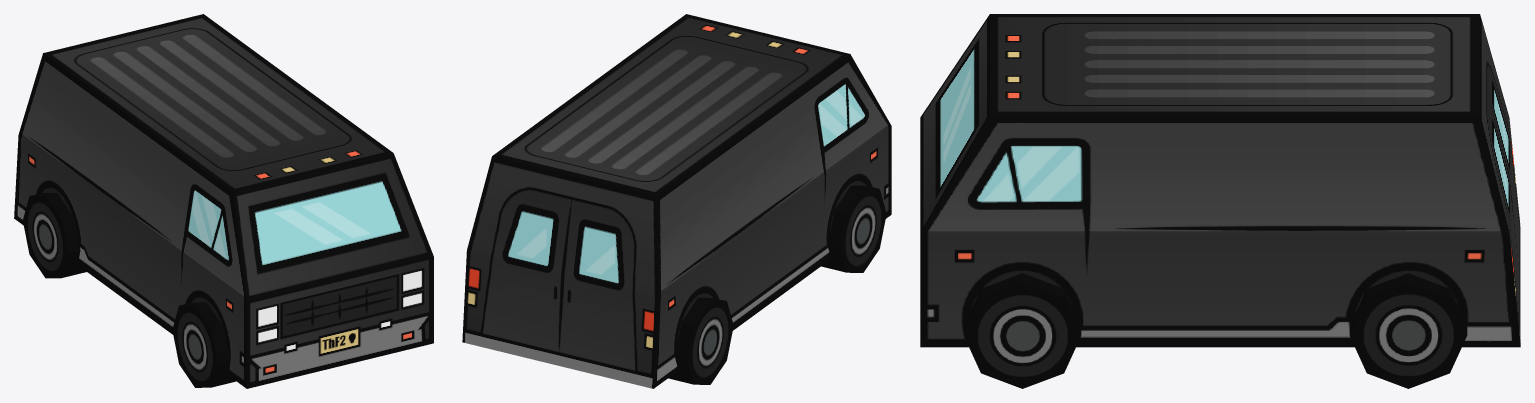
The model's file is car4_9.gltf.
3 views of the same model, side by side, from view 1: azimuth 30°, elevation 25°; view 2: azimuth 150°, elevation 25°; view 3: azimuth 270°, elevation 25° (orthographic). The views are drawn at different scales.
Visible parts, largest first — view 1: Cylinder.002; view 2: Cylinder.002; view 3: Cylinder.002.
Part boxes in pixels (box(x1,y1,x2,y2)): Cylinder.002: box(14, 14, 433, 388); Cylinder.002: box(462, 14, 891, 388); Cylinder.002: box(920, 14, 1520, 388).
Size of the model in its own units: 2.79 by 2.48 by 5.26.
1 material, 1 textured.
